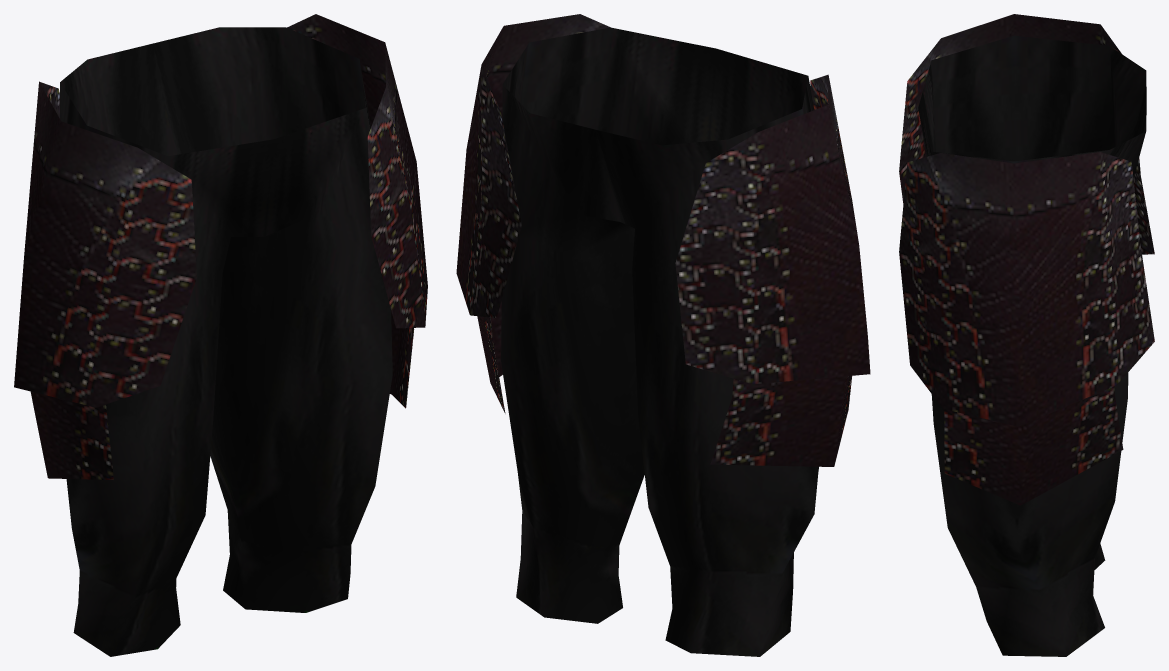
Rendered from Leather Armor Pants.fbx.
3 renders of one model, left to right at view 1: azimuth 30°, elevation 25°; view 2: azimuth 150°, elevation 25°; view 3: azimuth 270°, elevation 25°, orthographic. The views are drawn at different scales.
Visible parts, largest first — view 1: Leather Pants; view 2: Leather Pants; view 3: Leather Pants.
Part boxes in pixels (<box>): Leather Pants: <box>14,14,427,656</box>; Leather Pants: <box>456,14,870,656</box>; Leather Pants: <box>899,14,1154,656</box>.
Bounding box in the file's own units: 0.4529 × 0.5684 × 0.2564.
